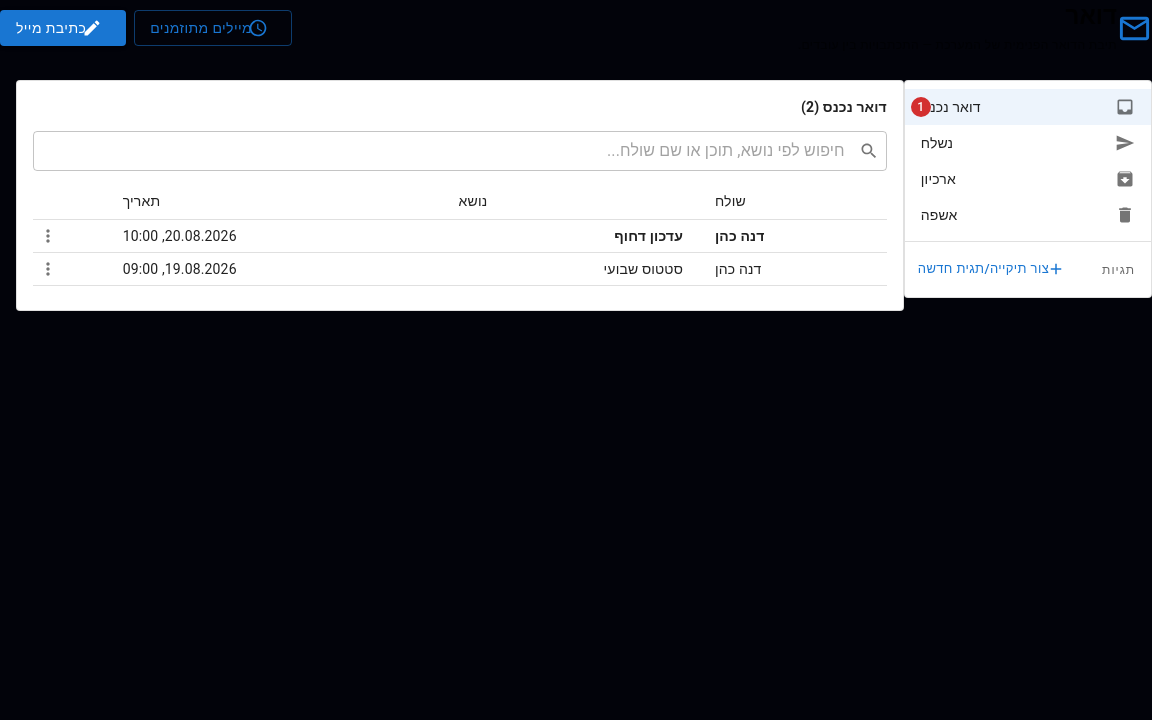
Test case: Emails › scheduled emails › shows an empty state when there are no scheduled emails
Click the button with test id "scheduled-emails-button" at point(213, 28), box [134,10,292,46]
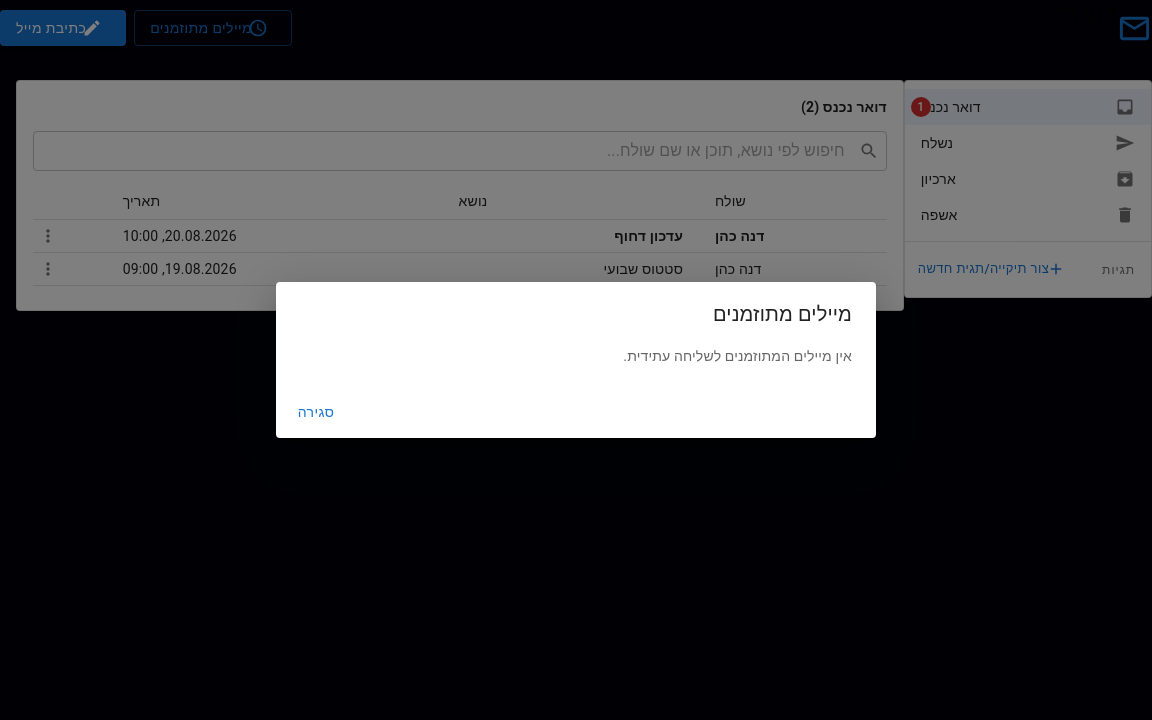
Expected: the text "אין מיילים המתוזמנים לשליחה עתידית." is shown, [623,348,852,364]
